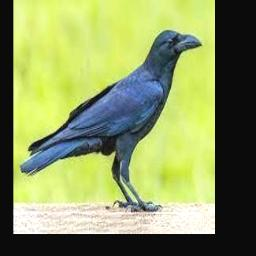Crow: (19, 29, 202, 210)
